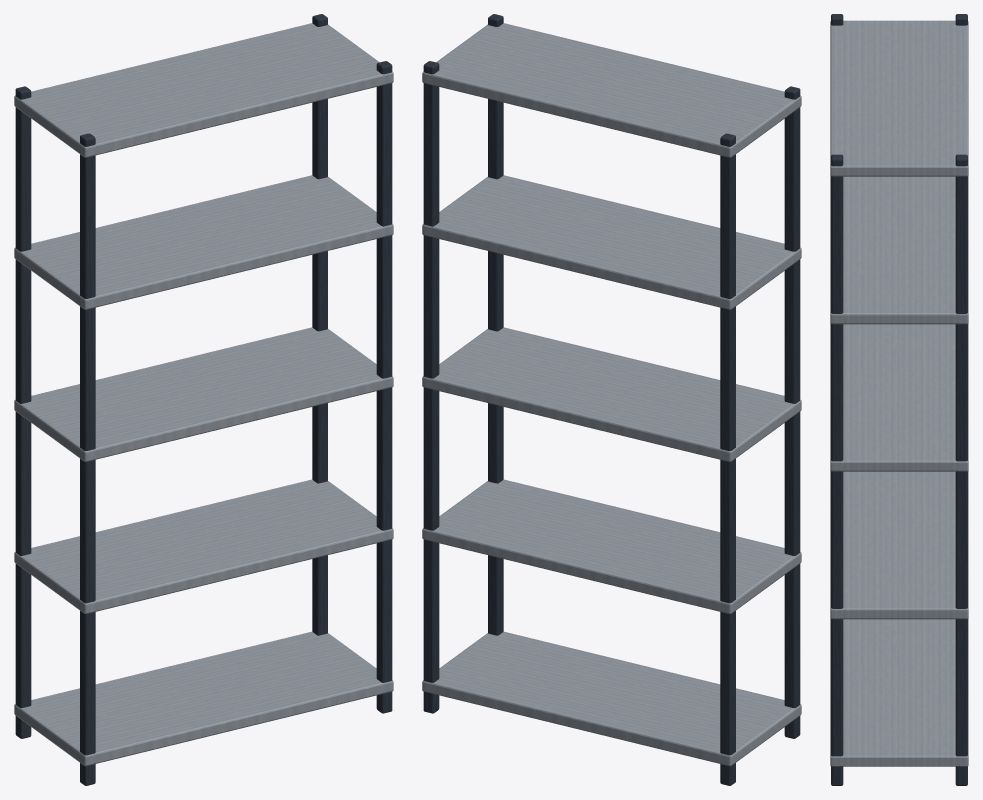
The model's file is MetalShelving.obj.
3 views of the same model, side by side, from view 1: azimuth 30°, elevation 25°; view 2: azimuth 150°, elevation 25°; view 3: azimuth 270°, elevation 25° (orthographic). The views are drawn at different scales.
Parts seen in each view (by area): view 1: Shelf.004, Shelf, Shelf.003, Shelf.001, Shelf.002, Post.002, Post.001, Post, Post.003; view 2: Shelf.004, Shelf, Shelf.003, Shelf.001, Shelf.002, Post.003, Post, Post.001, Post.002; view 3: Shelf.004, Shelf.001, Shelf.003, Shelf, Shelf.002, Post.002, Post.003.
Part boxes in pixels (<box>): Shelf.004: <box>14,23,393,157</box>; Shelf: <box>14,631,393,766</box>; Shelf.003: <box>14,175,393,309</box>; Shelf.001: <box>14,479,393,613</box>; Shelf.002: <box>14,327,393,461</box>; Post.002: <box>376,61,392,713</box>; Post.001: <box>15,86,31,738</box>; Post: <box>80,133,95,785</box>; Post.003: <box>312,14,327,635</box>; Shelf.004: <box>422,23,801,157</box>; Shelf: <box>422,631,801,766</box>; Shelf.003: <box>422,175,801,309</box>; Shelf.001: <box>422,479,801,613</box>; Shelf.002: <box>422,327,801,461</box>; Post.003: <box>423,61,439,713</box>; Post: <box>784,86,800,738</box>; Post.001: <box>720,133,735,785</box>; Post.002: <box>488,14,503,635</box>; Shelf.004: <box>830,20,968,176</box>; Shelf.001: <box>830,471,968,619</box>; Shelf.003: <box>830,176,968,324</box>; Shelf: <box>830,618,968,766</box>; Shelf.002: <box>830,323,968,471</box>; Post.002: <box>831,154,843,785</box>; Post.003: <box>955,154,967,785</box>.
Bounding box in the file's own units: 1 × 2 × 0.4.
